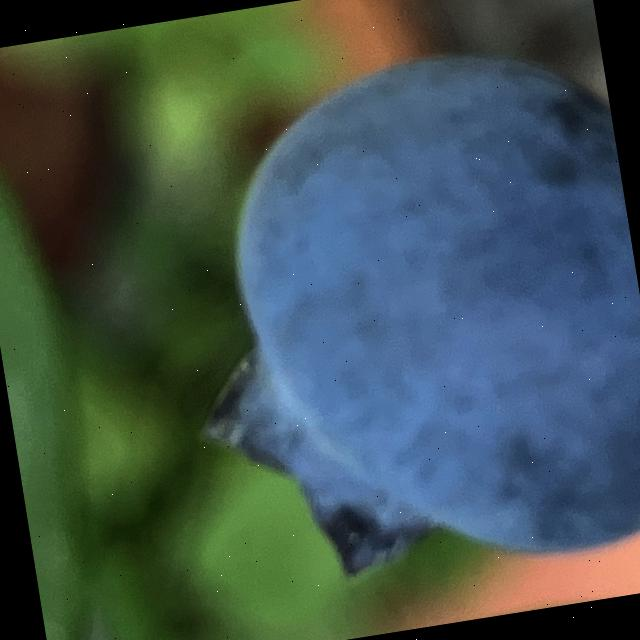Blueberries: (143, 22, 640, 610)
